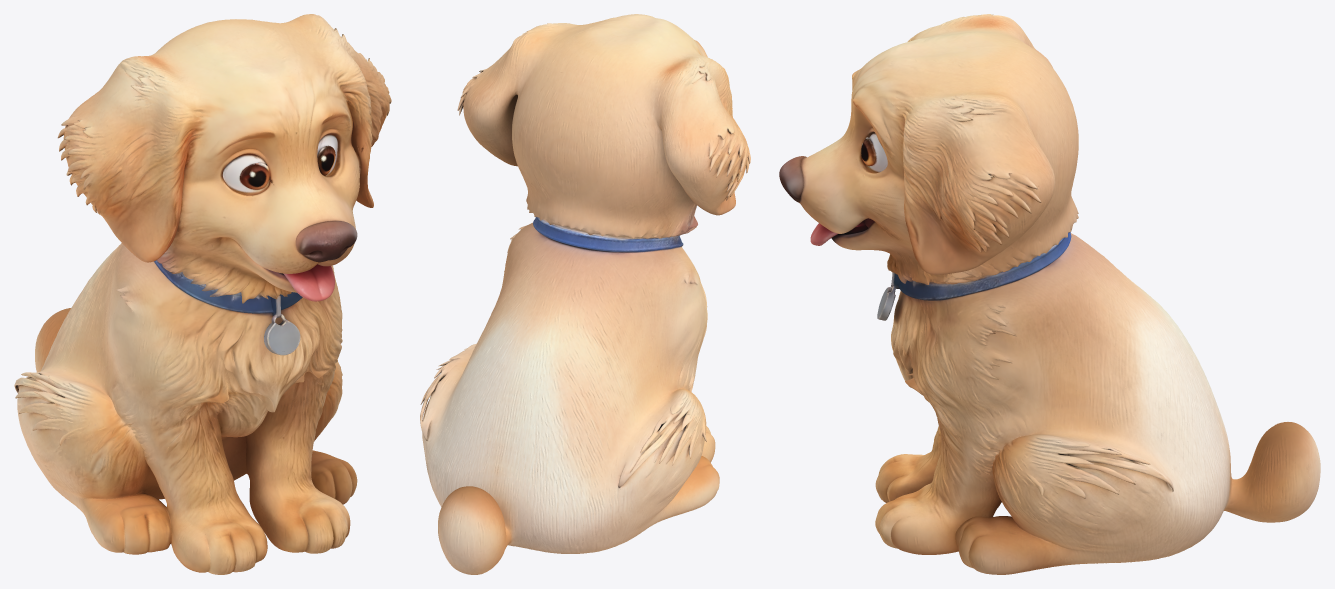
File: base_basic_shaded.glb
The picture shows the model from 3 angles, left to right: view 1: azimuth 30°, elevation 25°; view 2: azimuth 150°, elevation 25°; view 3: azimuth 270°, elevation 25°; orthographic projection. The views are drawn at different scales.
Visible parts, largest first — view 1: model; view 2: model; view 3: model.
Boxes of the visible parts, <box> form: model: <box>14,14,391,574</box>; model: <box>420,14,750,574</box>; model: <box>779,14,1320,574</box>.
Size of the model in its own units: 1.22 by 1.84 by 1.9.
1 material, 1 textured.
